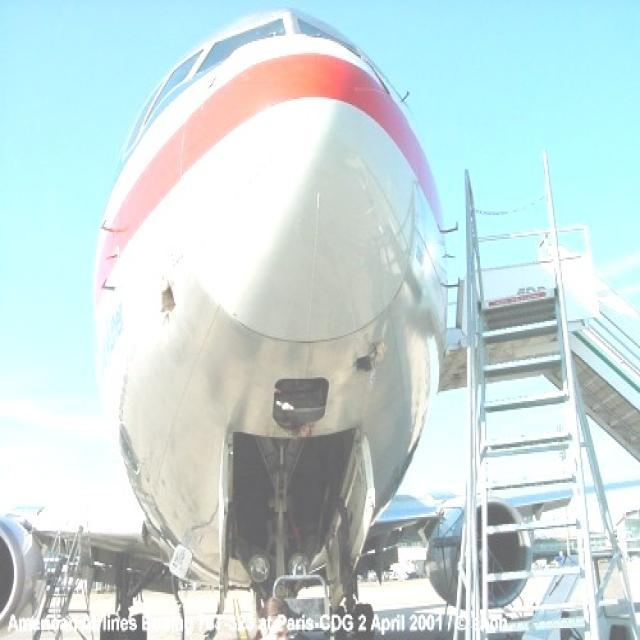dent: (351, 344, 414, 395), (153, 278, 188, 324)
